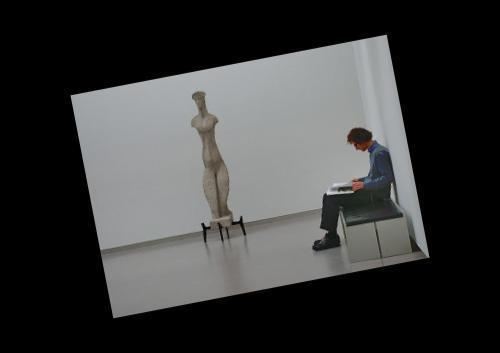Otro Obstaculo: (176, 88, 246, 242)
